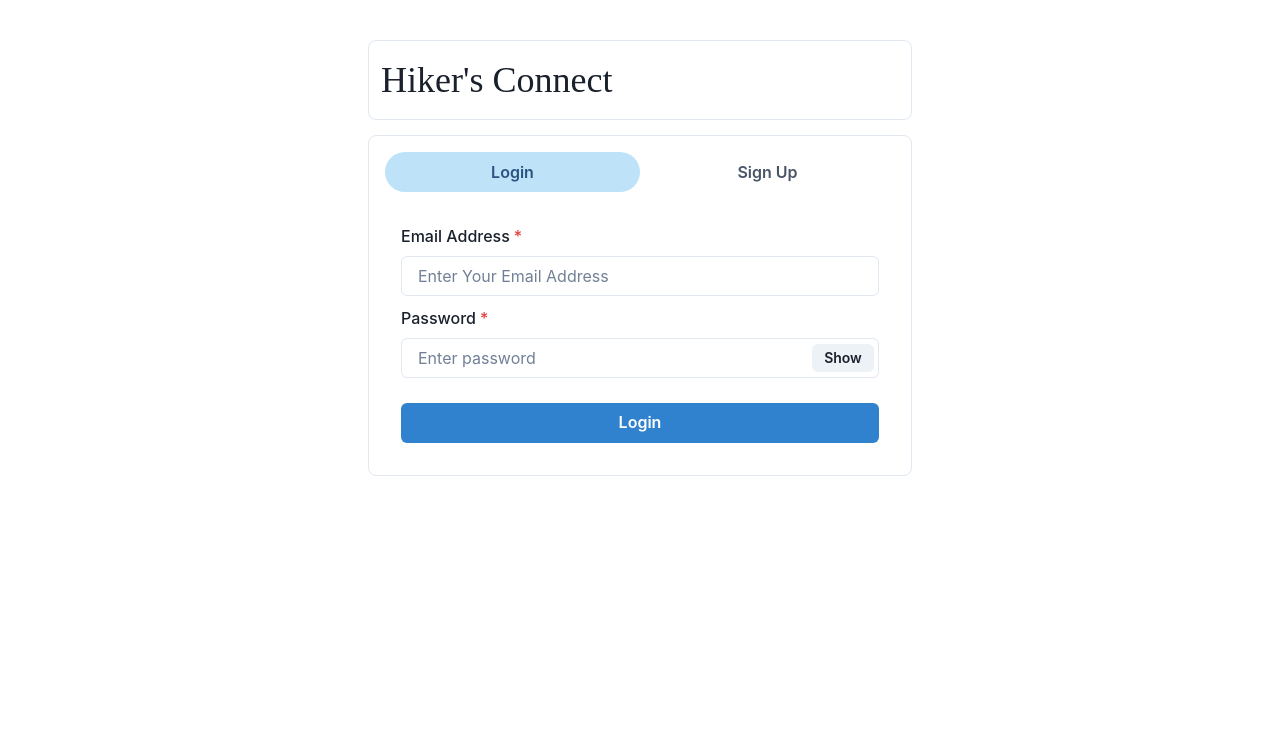
Test: logs in, reads the journal feed, then opens a trail profile
The image size is (1280, 749).
expect the text "Hiker's Connect" is shown: met, box [381,60,612,100]
Step 1. Type "ada@example.com" into the field with placeholder "Enter Your Email Address" → point(640, 276), box [401,256,879,296]
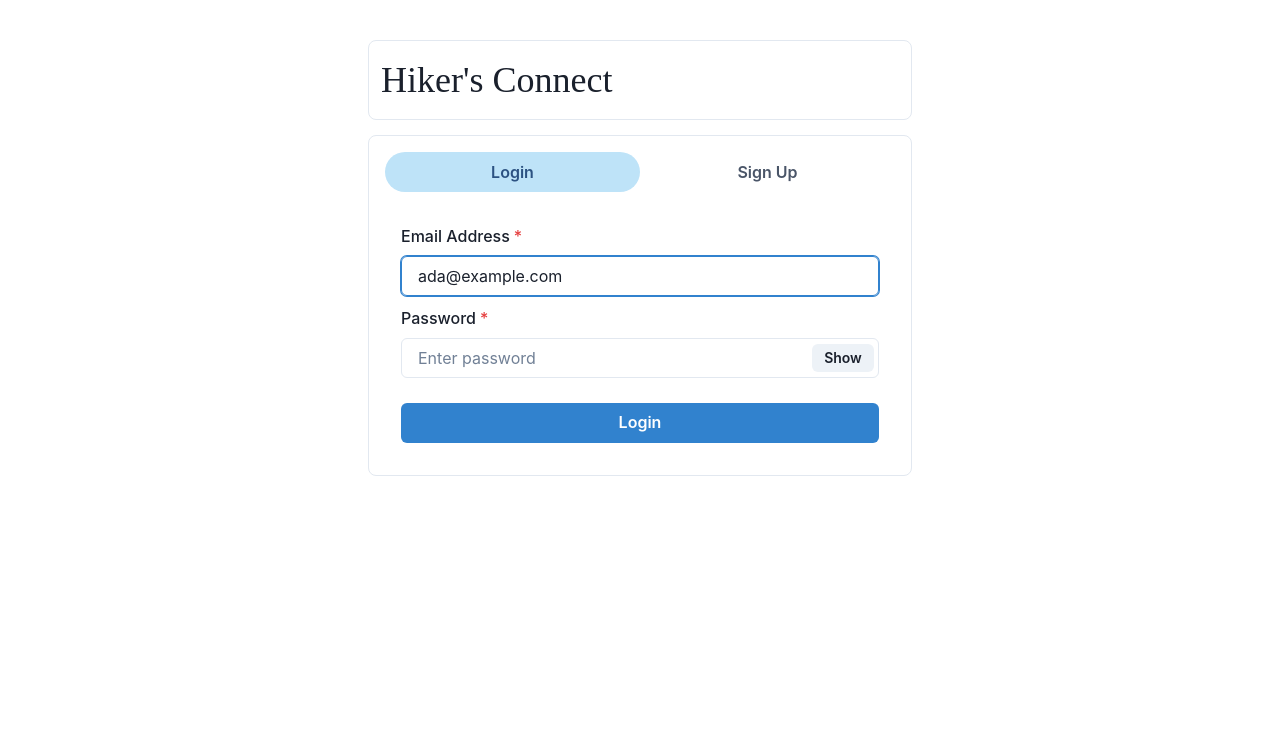
Step 2. Type "secret1" into the password field with placeholder "Enter password" → point(640, 358), box [401,338,879,378]
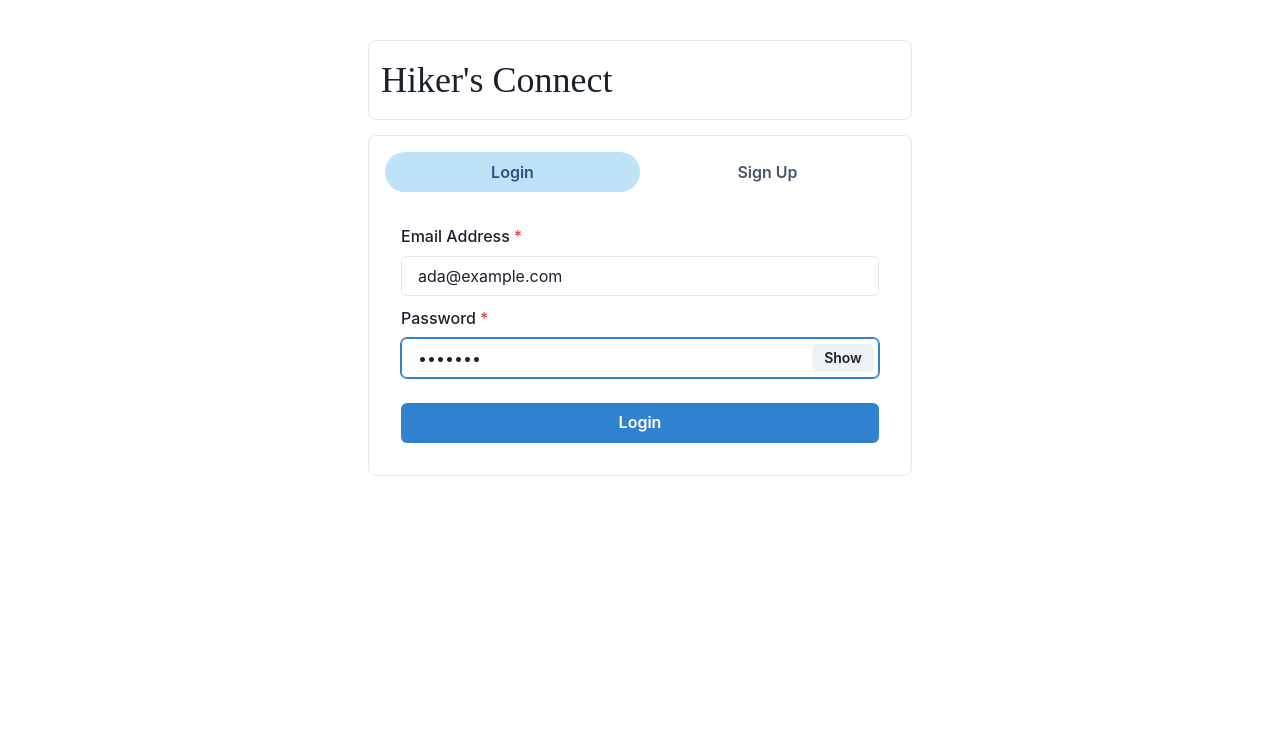
Step 3. Click the button "Login" → point(640, 423), box [401,403,879,443]
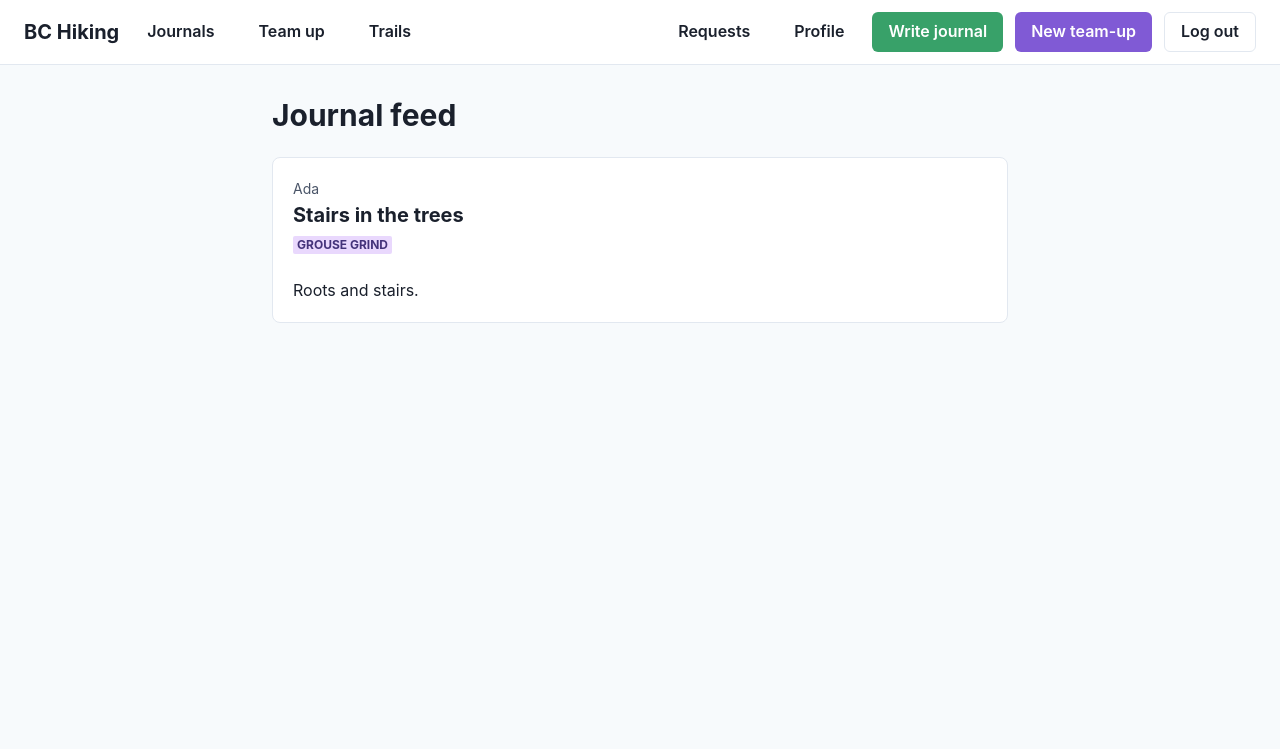
expect the heading "Journal feed" is shown: met, box [272,97,456,133]
expect the heading "Stairs in the trees" is shown: met, box [293,203,464,227]
Step 4. Click the button "Trails" → point(390, 32), box [353,12,427,52]
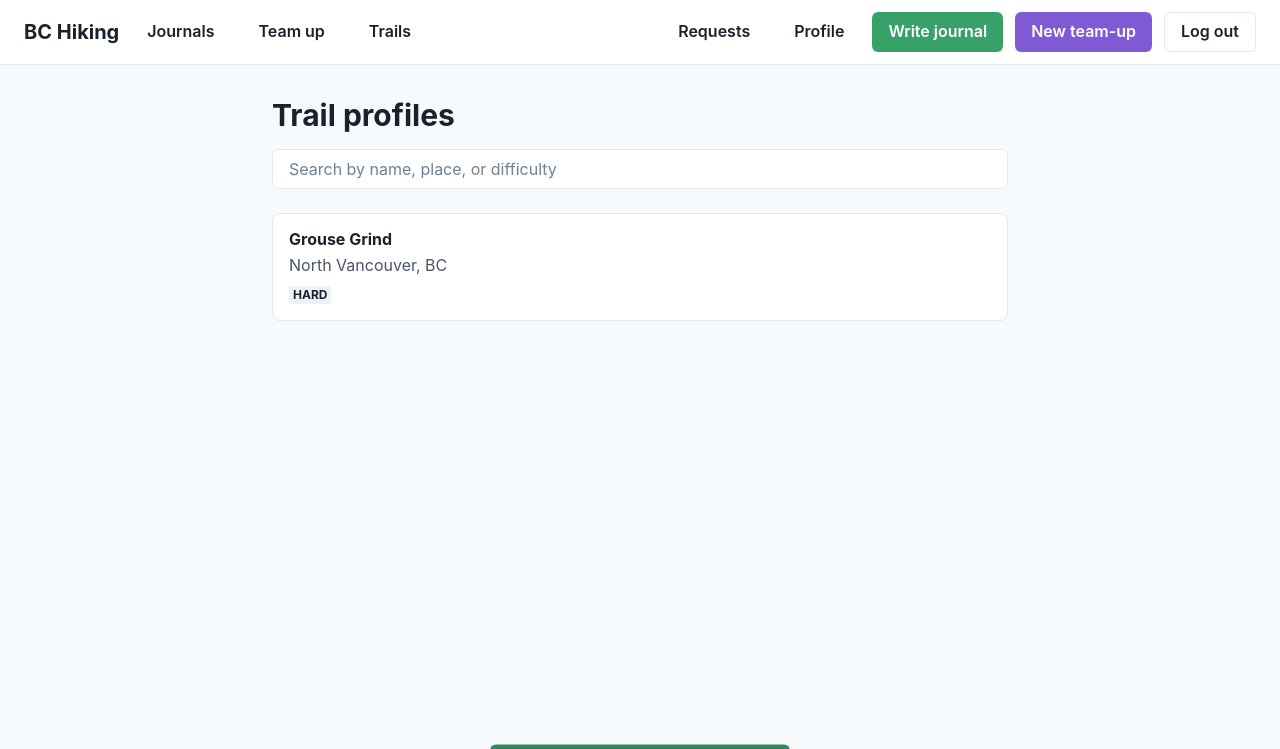
expect the heading "Trail profiles" is shown: met, box [272,97,455,133]
Step 5. Click the heading "Grouse Grind" → point(341, 239), box [289,229,392,249]
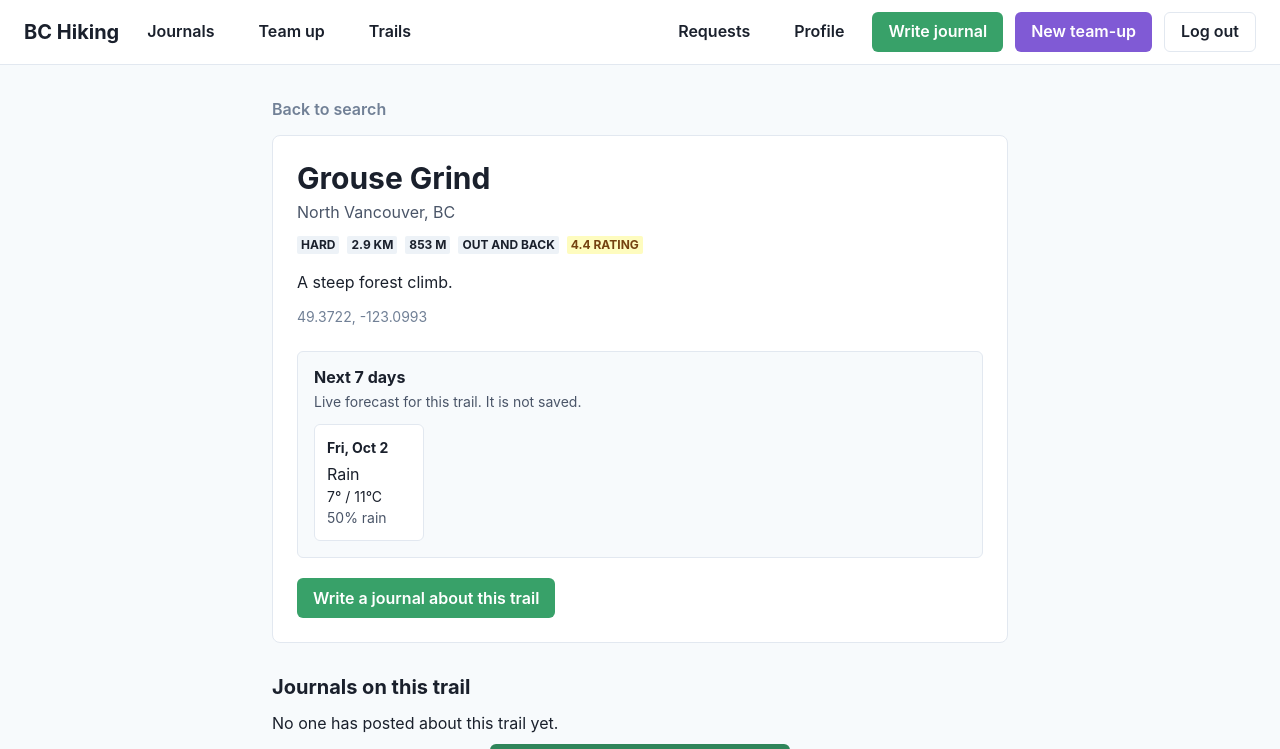
expect the heading "Next 7 days" is shown: met, box [314,367,405,387]
expect the text "Rain" is shown: met, box [327,464,360,484]
expect the text "Live forecast for this trail. It is not saved." is shown: met, box [314,393,582,410]
